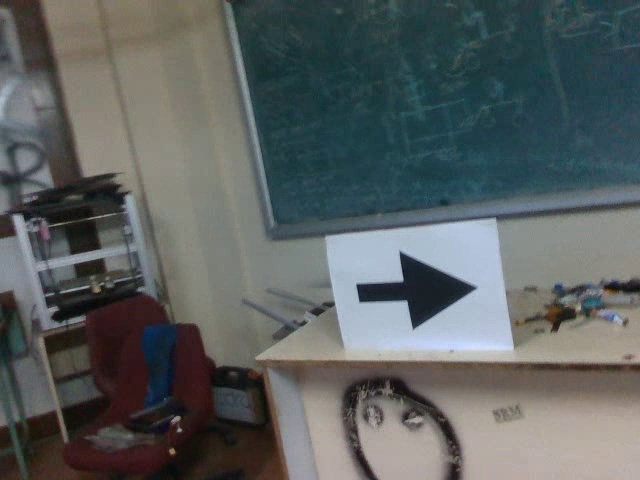Right: (351, 246, 485, 338)
